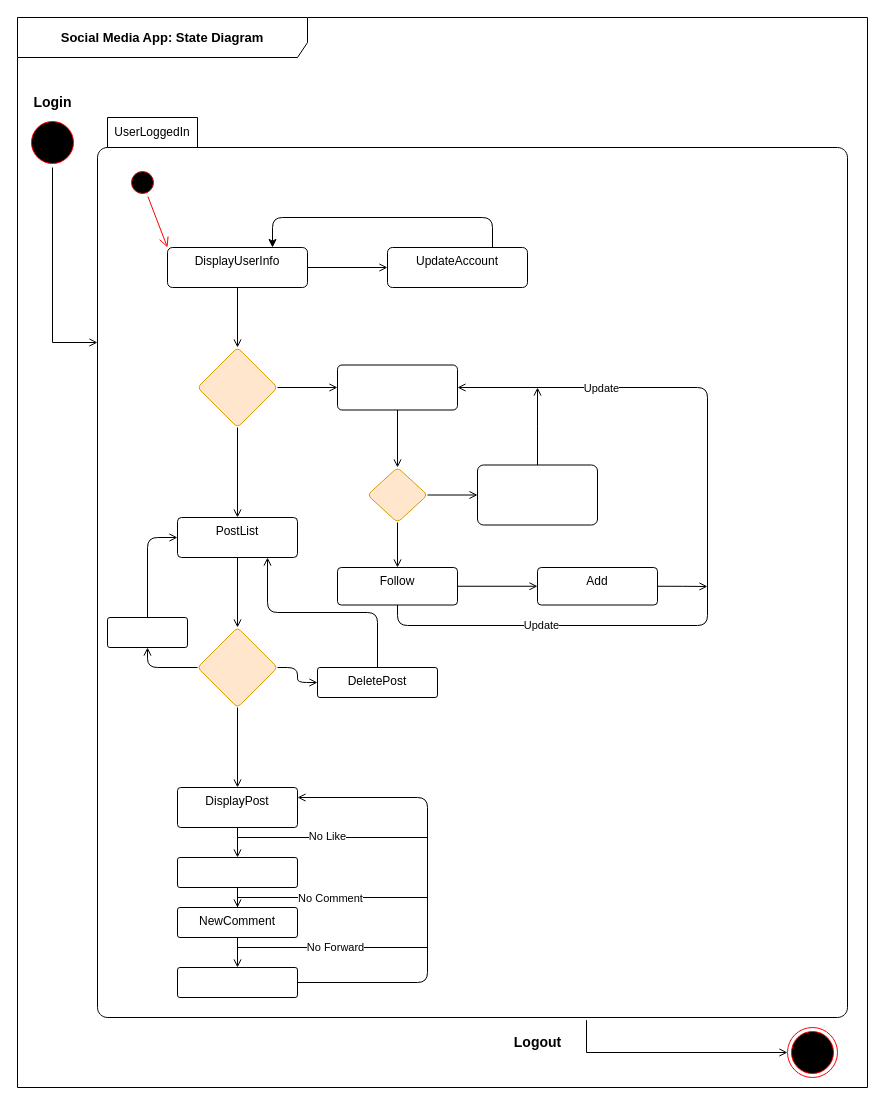
Some shapes in this 885 by 1105 pixel diagram are drawn without their labels. The box of each missing label's shape, as (x1, y1, x2, y2) in pixels:
AddPost: (106, 616, 188, 648)
displayFollowers: (336, 364, 458, 410)
ForwardPost: (176, 966, 298, 998)
Like: (176, 856, 298, 888)
Unfollow: (476, 464, 598, 525)
